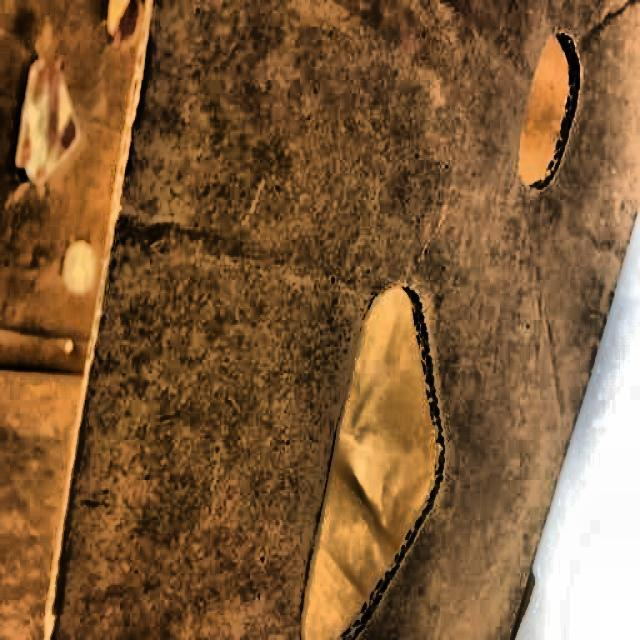cardboard: (37, 0, 638, 638)
